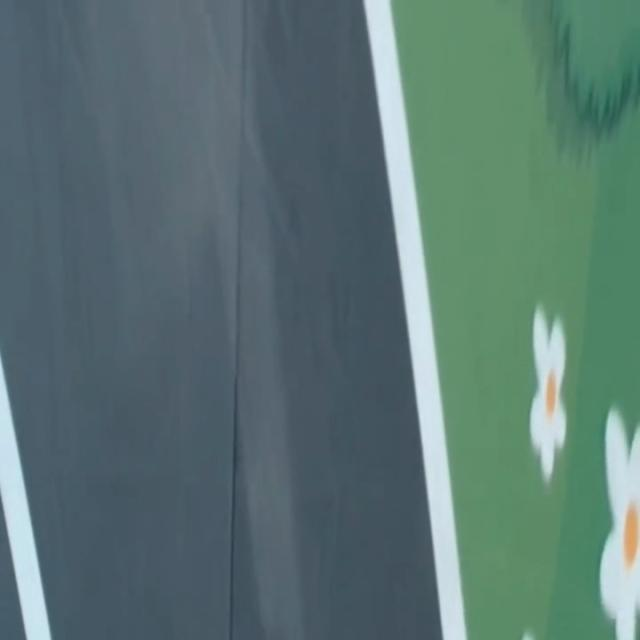right: (364, 0, 466, 639)
